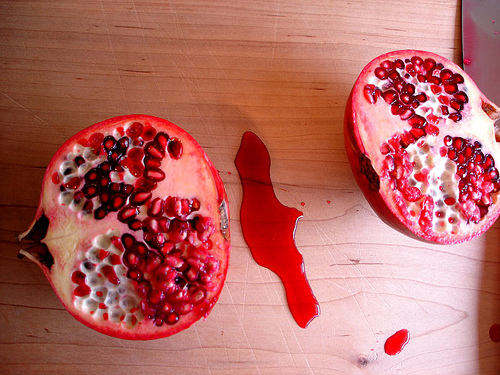pomogranate: (16, 112, 232, 342), (352, 49, 499, 245)
